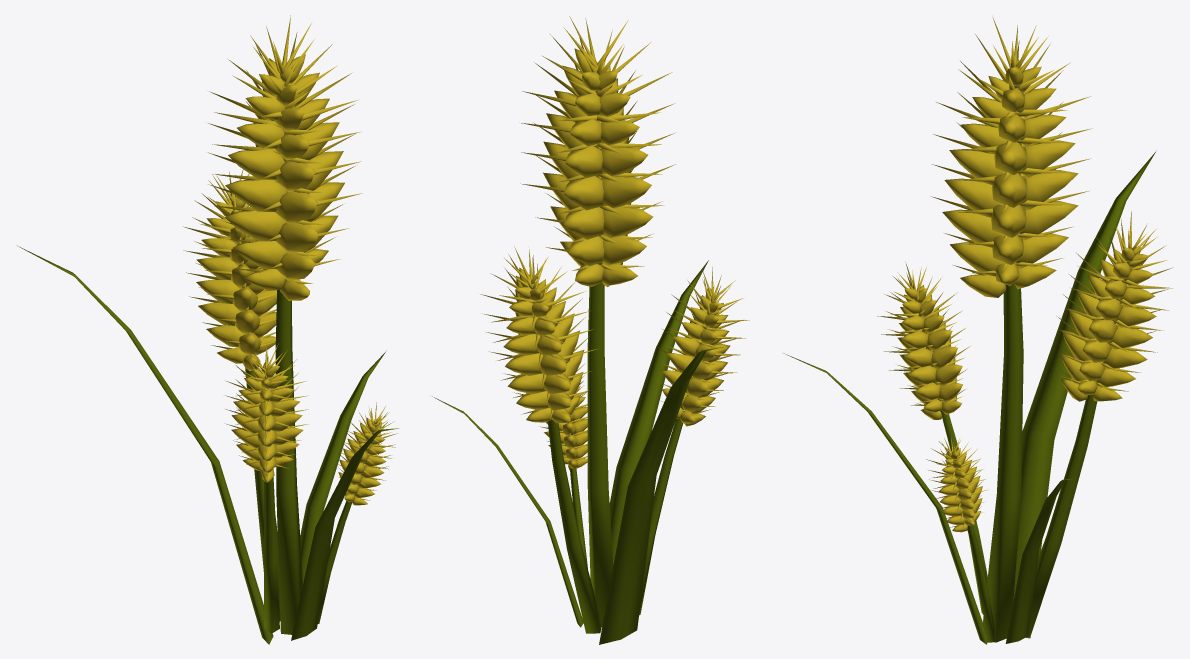
Rendered from Ripe.fbx.
The picture shows the model from 3 angles, left to right: view 1: azimuth 30°, elevation 25°; view 2: azimuth 150°, elevation 25°; view 3: azimuth 270°, elevation 25°; orthographic projection. The views are drawn at different scales.
Visible parts, largest first — view 1: Cube; view 2: Cube; view 3: Cube.
Boxes of the visible parts, <box> form: Cube: <box>18,15,398,644</box>; Cube: <box>432,16,749,644</box>; Cube: <box>783,17,1173,644</box>.
Bounding box in the file's own units: 0.4309 × 0.7474 × 0.4328.
